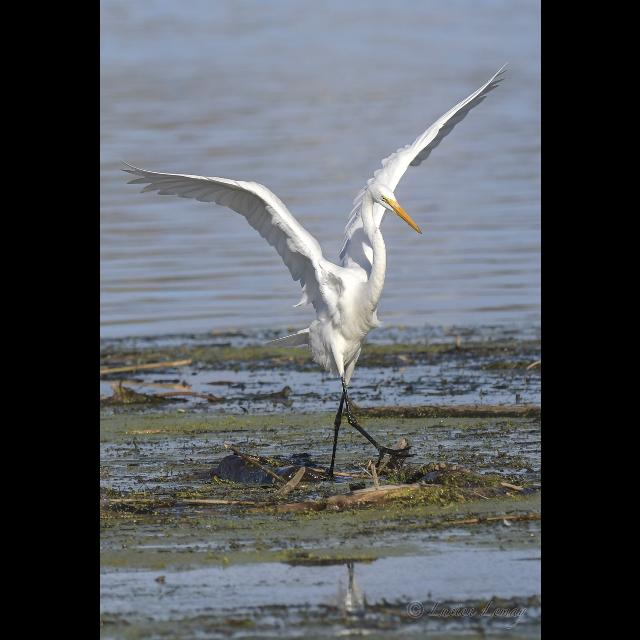egret: (127, 66, 499, 474)
